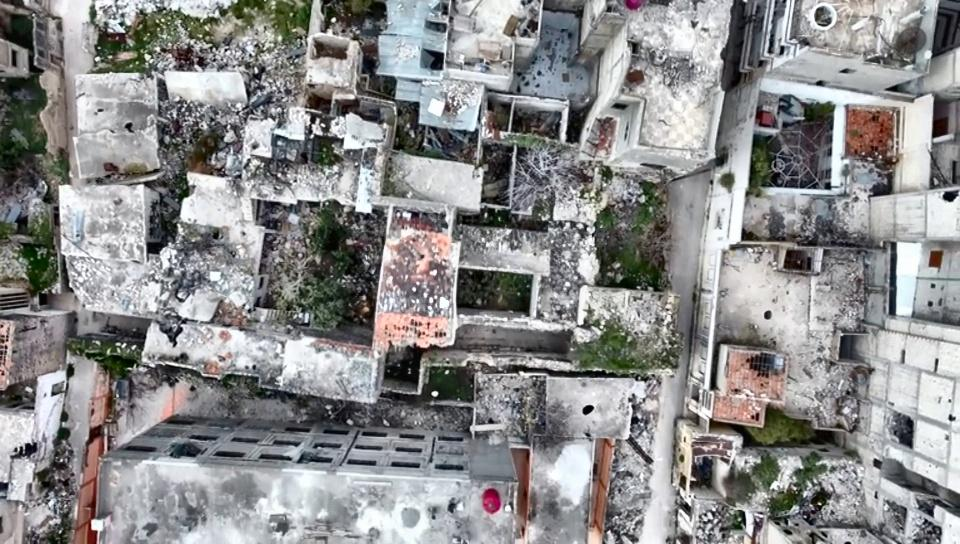kapali: (603, 375, 686, 543)
